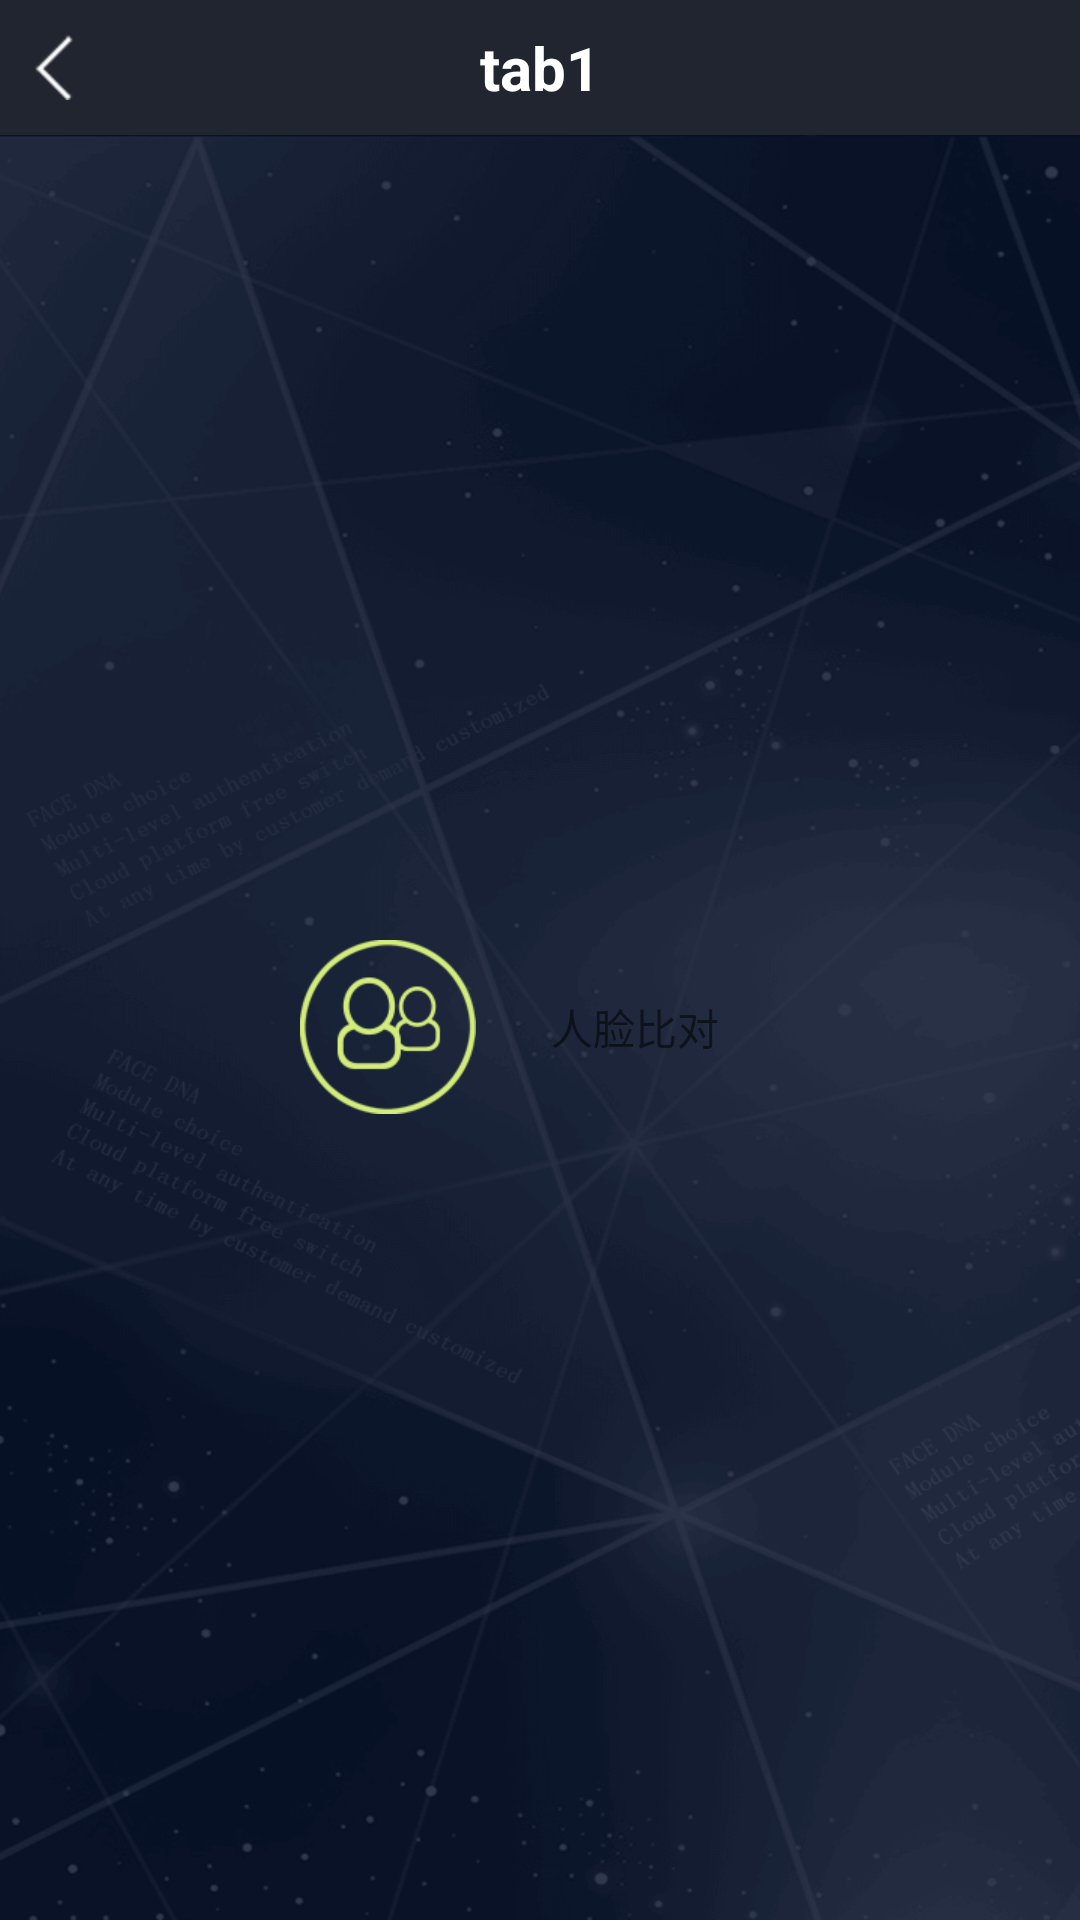

Icons on this 1080*1920 Android screen, each with the point to tap as [x,y]:
arrow: [54,67]
